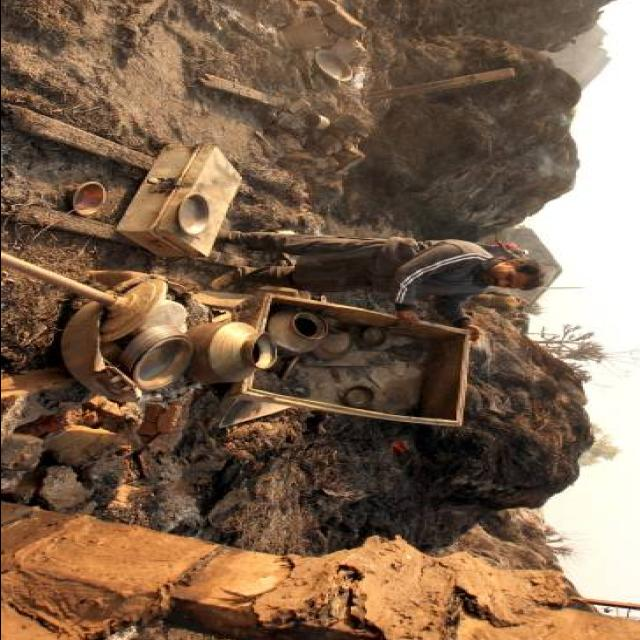civilian: (223, 232, 543, 335), (485, 240, 527, 257)
